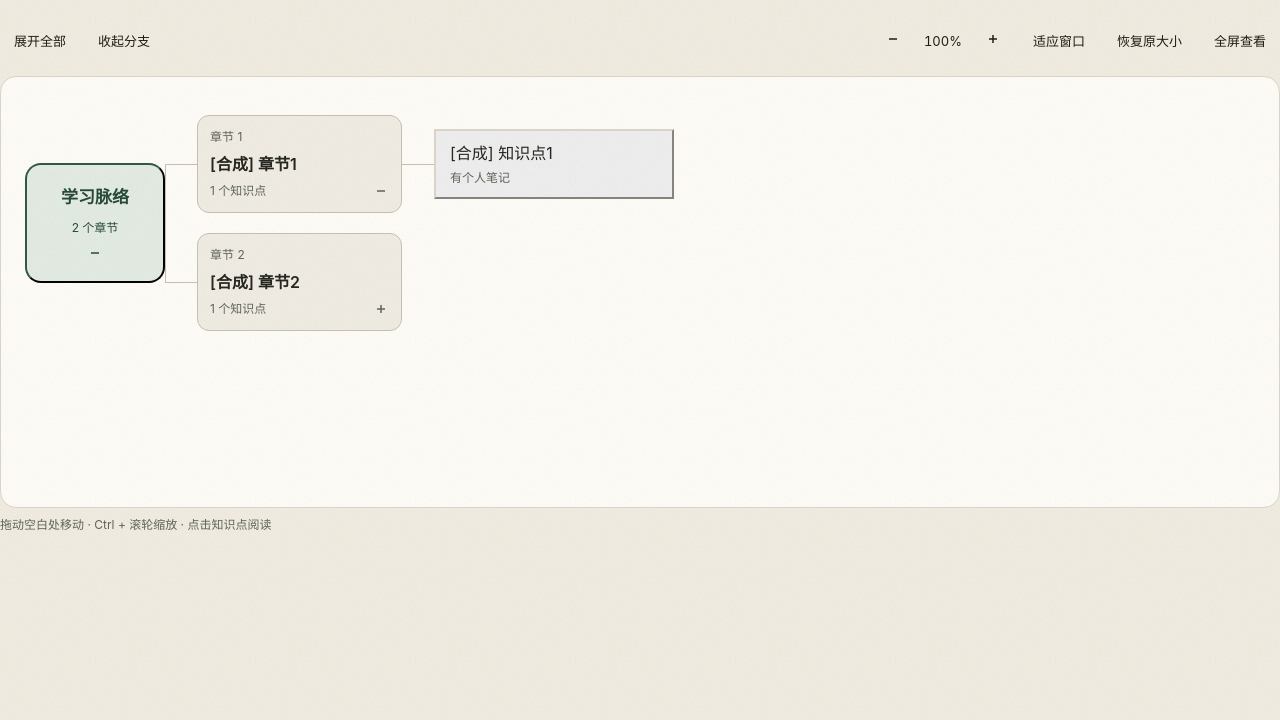
Test: leaves fullscreen before navigating to a knowledge point
Click the button "全屏查看".
click(1240, 42)  # box [1200, 20, 1279, 64]
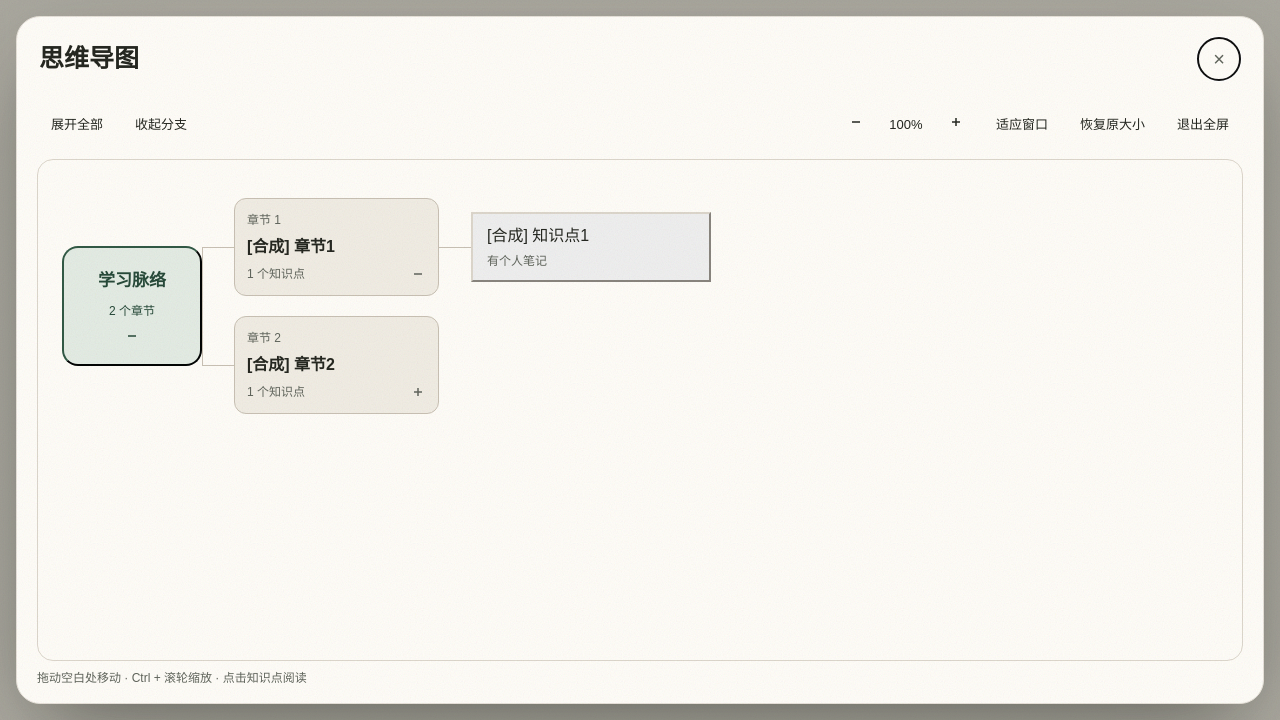
Click the button "[合成] 知识点1 有个人笔记".
click(591, 247)  # box [471, 212, 711, 282]
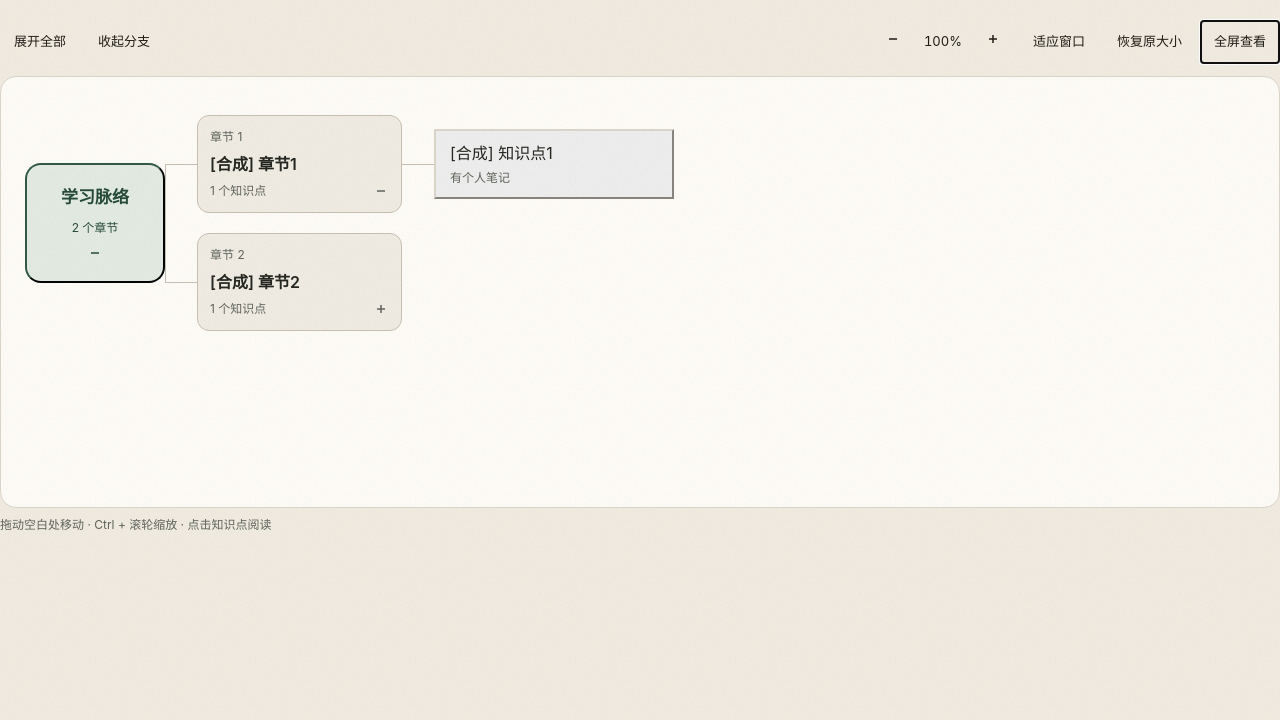
Result: the dialog is gone
